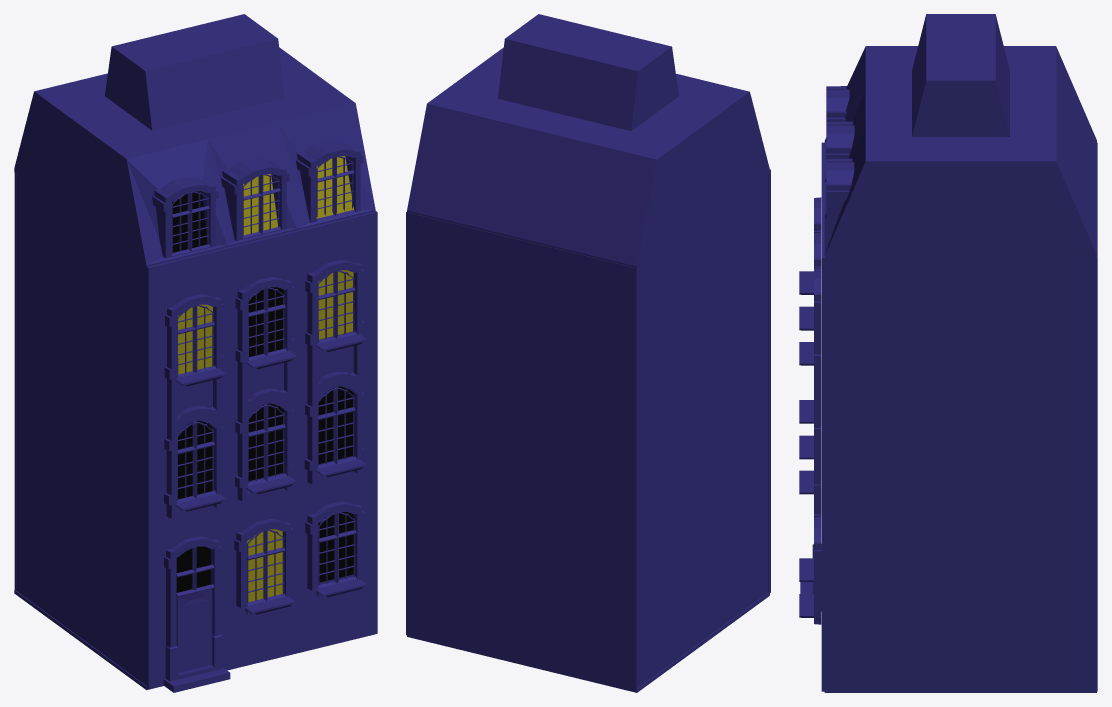
File: Haus 2.fbx
3 views of the same model, side by side, from view 1: azimuth 30°, elevation 25°; view 2: azimuth 150°, elevation 25°; view 3: azimuth 270°, elevation 25° (orthographic). The views are drawn at different scales.
Parts seen in each view (by area): view 1: polySurface3; view 2: polySurface3; view 3: polySurface3.
Part boxes in pixels (left/top/right/bottom): polySurface3: left=14, top=14, right=377, bottom=692; polySurface3: left=406, top=14, right=770, bottom=692; polySurface3: left=799, top=14, right=1097, bottom=692.
Size of the model in its own units: 702 by 1668 by 767.
